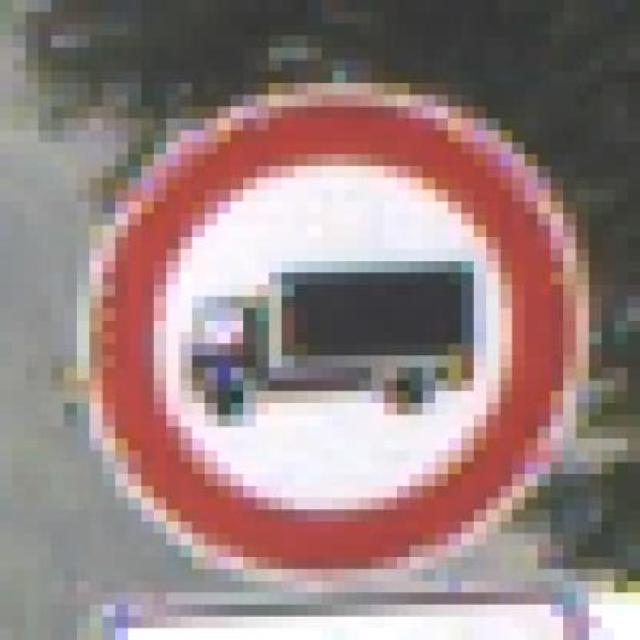Truck traffic is prohibited: (51, 59, 589, 593)
